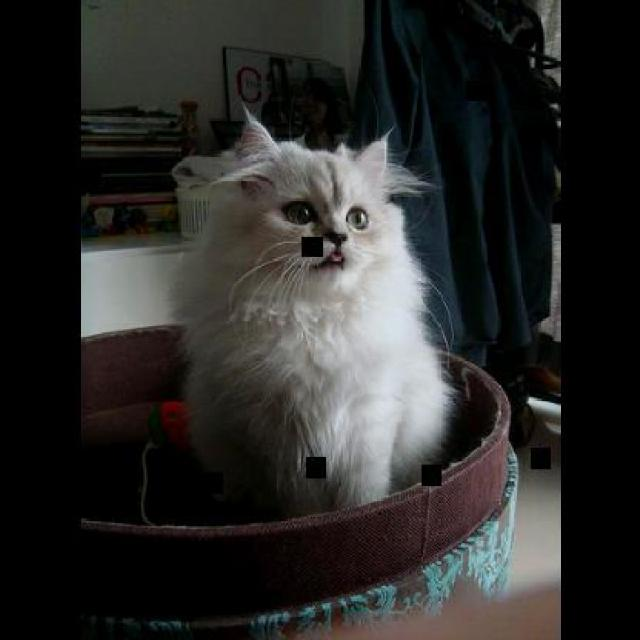unauthorized: (166, 100, 457, 518)
